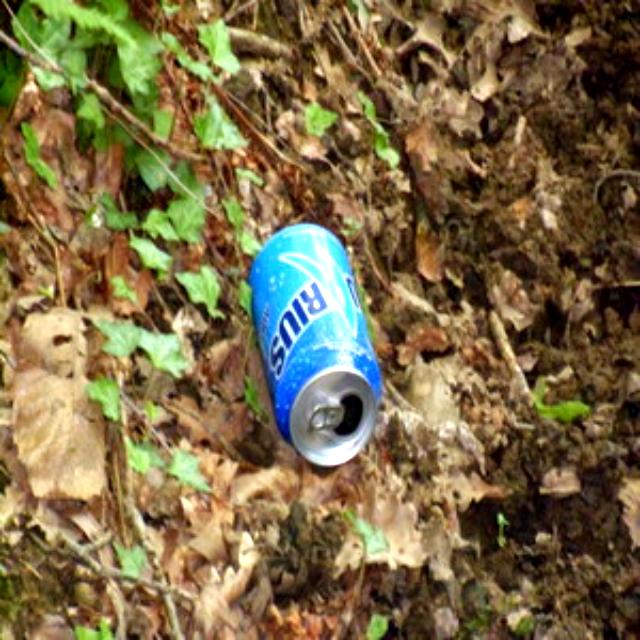Metal: (251, 214, 383, 468)
